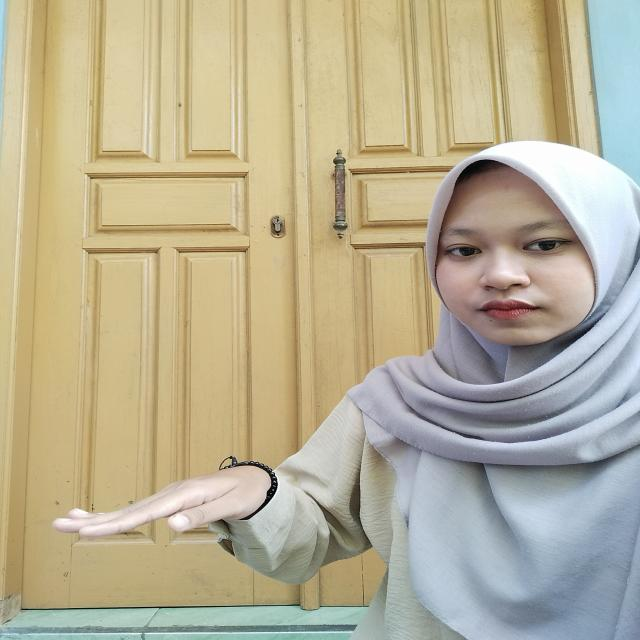adik: (33, 450, 290, 552)
